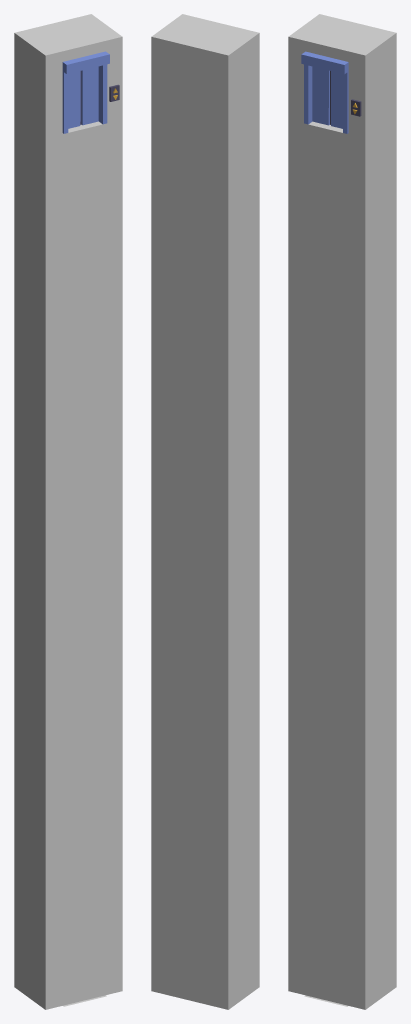
File: maidstage2elevator.fbx
3 views of the same model, side by side, from view 1: azimuth 30°, elevation 25°; view 2: azimuth 150°, elevation 25°; view 3: azimuth 330°, elevation 25° (orthographic).
Visible parts, largest first — view 1: elevator; view 2: elevator; view 3: elevator.
Part boxes in pixels (<box>): elevator: <box>14,14,122,1009</box>; elevator: <box>151,14,259,1009</box>; elevator: <box>288,14,396,1009</box>.
Bounding box in the file's own units: 358 × 4235 × 283.
